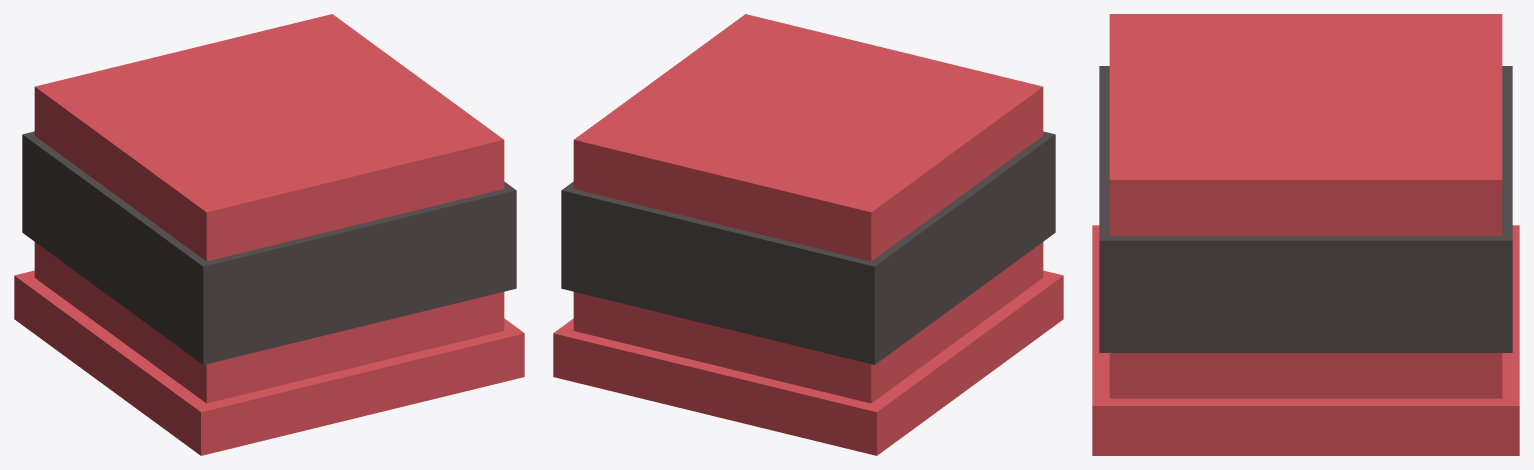
The model's file is lenhador_manga_inf.glb.
3 renders of one model, left to right at view 1: azimuth 30°, elevation 25°; view 2: azimuth 150°, elevation 25°; view 3: azimuth 270°, elevation 25°, orthographic. The views are drawn at different scales.
Parts seen in each view (by area): view 1: lenhador_manga_inf; view 2: lenhador_manga_inf; view 3: lenhador_manga_inf.
Boxes of the visible parts, box(x1,y1,x2,y2) form: lenhador_manga_inf: box(14, 14, 524, 455); lenhador_manga_inf: box(553, 14, 1063, 455); lenhador_manga_inf: box(1092, 14, 1519, 455).
Bounding box in the file's own units: 0.31 × 0.215 × 0.31.
